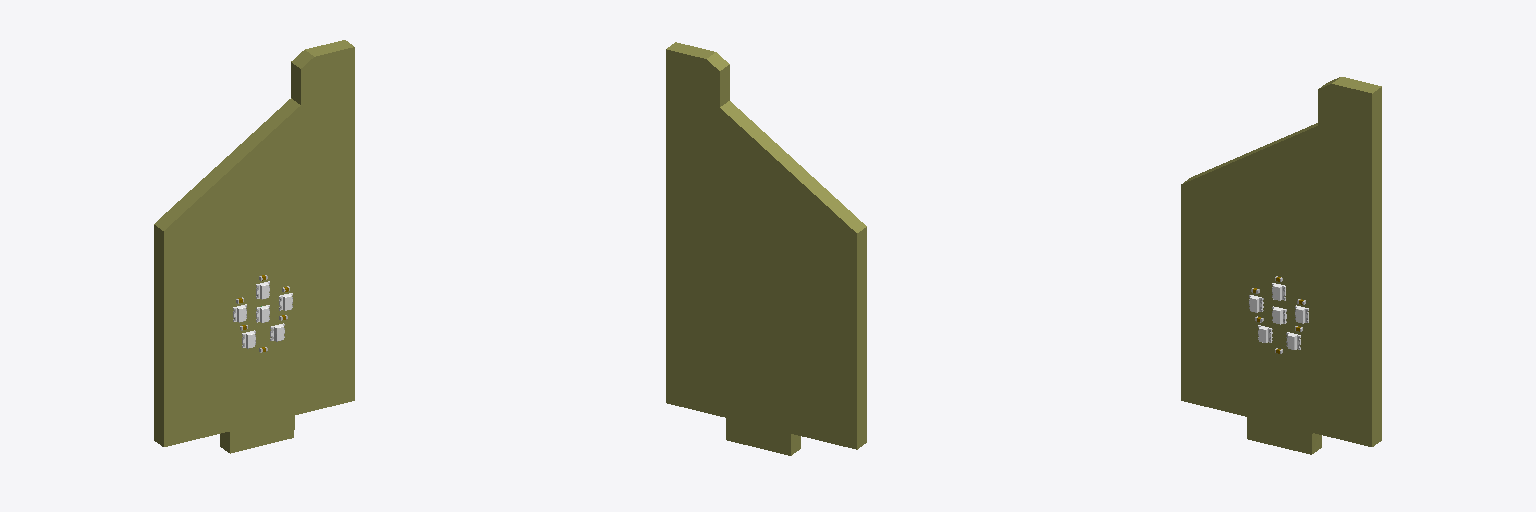
The model's file is OBJ_SideA.obj.
3 renders of one model, left to right at view 1: azimuth 30°, elevation 25°; view 2: azimuth 150°, elevation 25°; view 3: azimuth 330°, elevation 25°, orthographic.
Size of the model in its own units: 113 by 211 by 13.3.